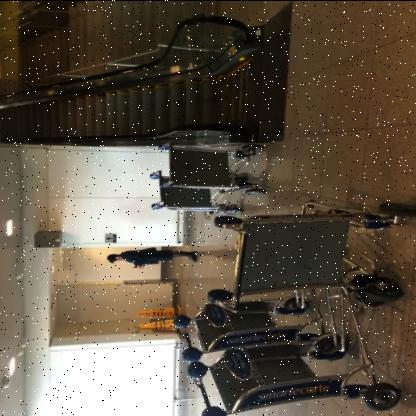airport-trolley: (184, 278, 405, 416), (209, 181, 416, 317), (176, 262, 330, 360), (158, 136, 260, 198), (144, 168, 240, 232)
